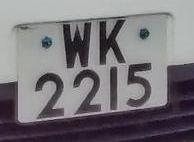1: (103, 61, 125, 112)
2: (29, 67, 71, 122), (65, 65, 107, 117)
5: (124, 60, 155, 109)
K: (92, 16, 133, 68)
W: (57, 20, 98, 71)
